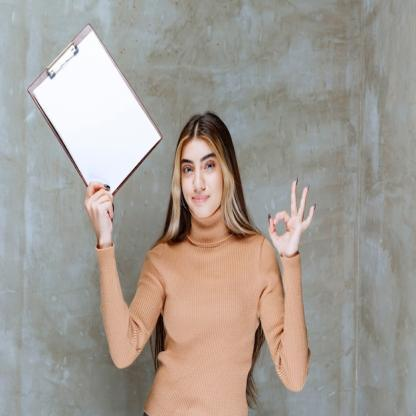ok: (263, 173, 318, 262)
